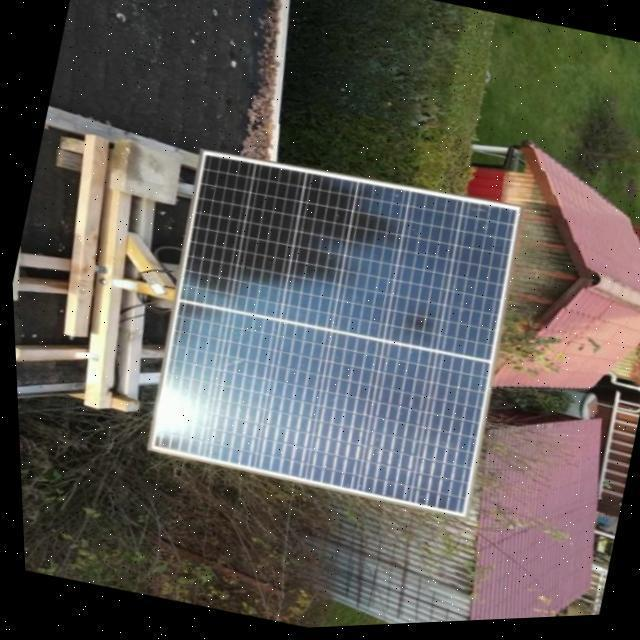Normal Solar Panel: (126, 134, 534, 530)
